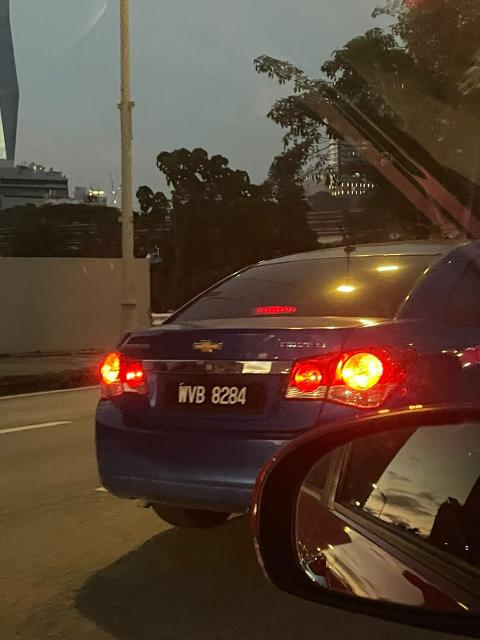License_Plate: (165, 372, 262, 419)
car: (86, 243, 480, 526)
